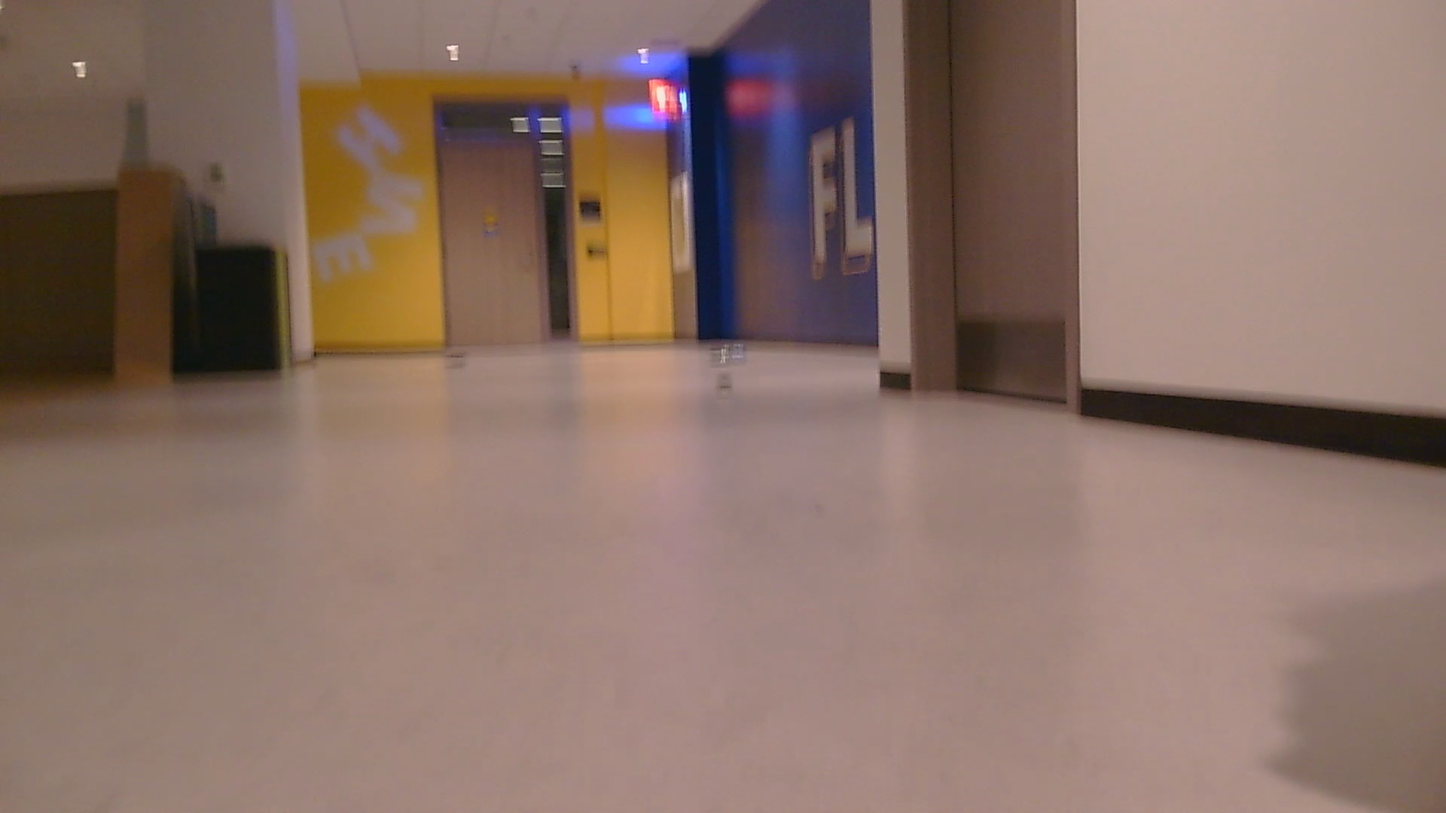carton: (440, 348, 488, 372), (712, 343, 764, 364), (723, 376, 744, 397)
